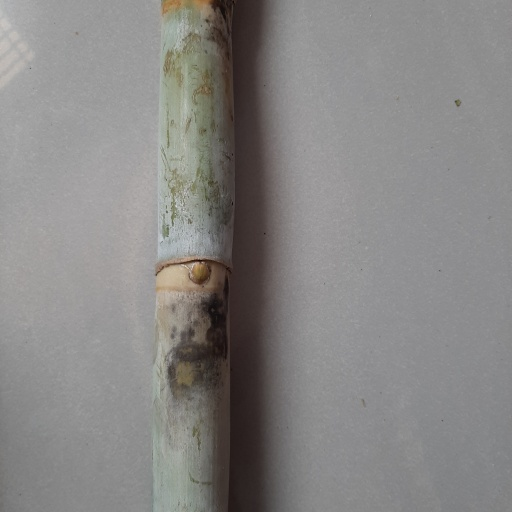Bud: (188, 262, 212, 287)
